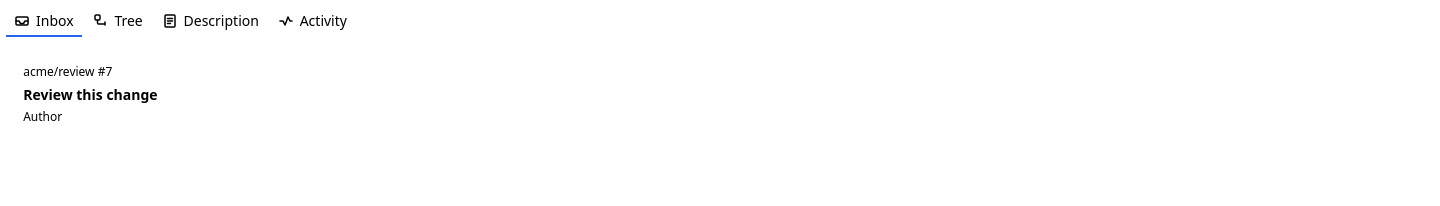
Scenario: Sidebar › loads review signals once when Activity opens first, and Description reuses the result
Press the mouse on the tab "Activity" at (312, 22), box [270,6,355,37]
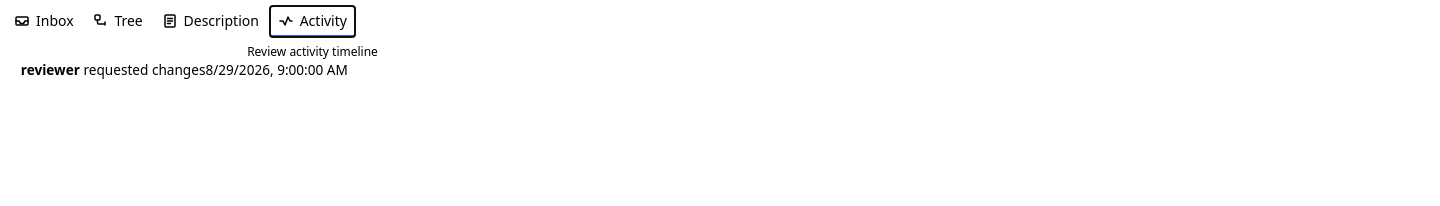
Press the mouse on the tab "Description" at (210, 22), box [154,6,267,37]
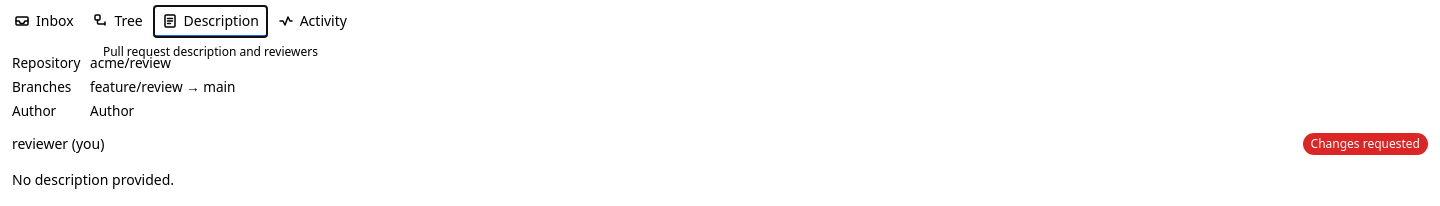
Result: the text "Changes requested" is shown at [1302,133,1428,155]
